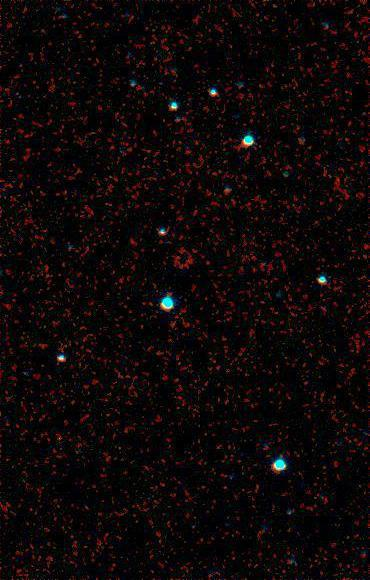star: (167, 237, 197, 267)
